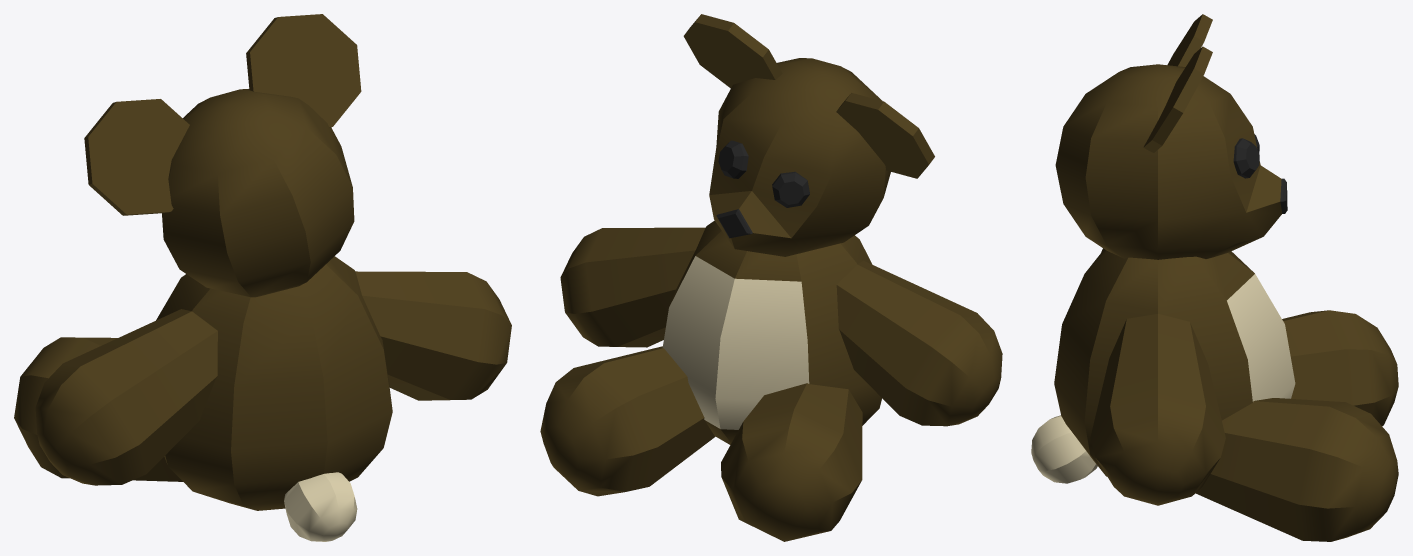
File: Teddy.fbx
3 views of the same model, side by side, from view 1: azimuth 30°, elevation 25°; view 2: azimuth 150°, elevation 25°; view 3: azimuth 270°, elevation 25° (orthographic). The views are drawn at different scales.
Parts seen in each view (by area): view 1: pSphere7; view 2: pSphere7; view 3: pSphere7.
Part boxes in pixels (bbox=[...]): pSphere7: bbox=[14, 14, 511, 541]; pSphere7: bbox=[540, 14, 1002, 541]; pSphere7: bbox=[1031, 14, 1398, 541].
Size of the model in its own units: 5 by 4.95 by 3.58.
